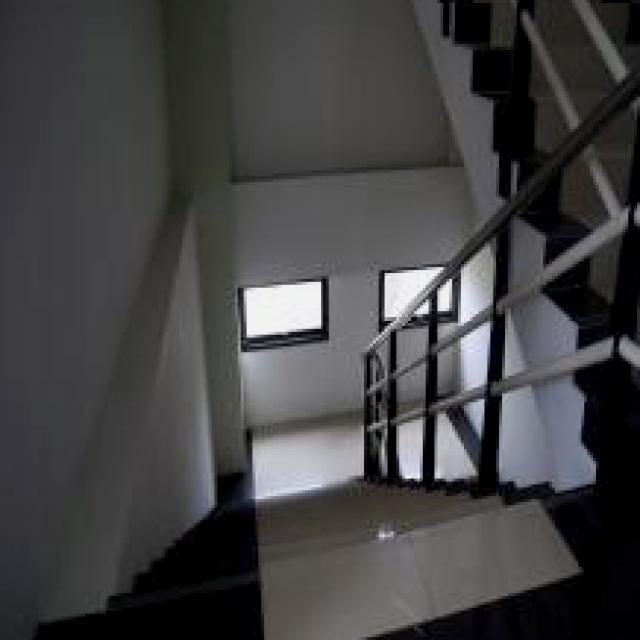downstair: (165, 497, 594, 640)
